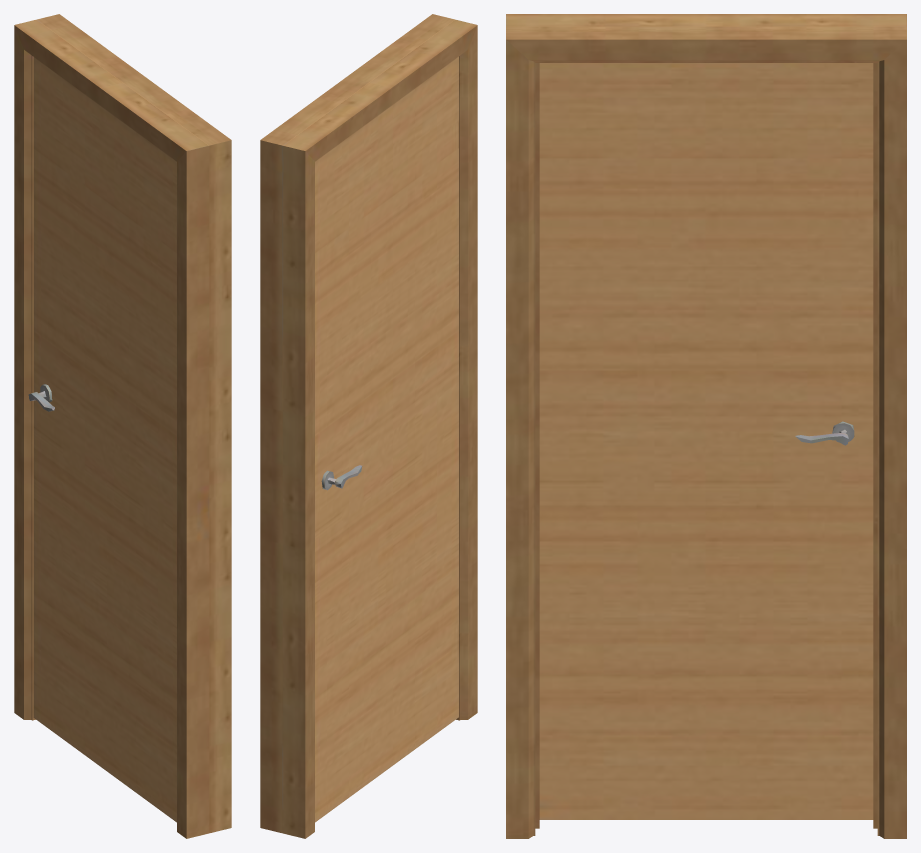
Rendered from Door0020.obj.
3 renders of one model, left to right at view 1: azimuth 30°, elevation 25°; view 2: azimuth 150°, elevation 25°; view 3: azimuth 270°, elevation 25°, orthographic. The views are drawn at different scales.
Size of the model in its own units: 0.182 by 2.12 by 0.964.
1 material, 1 textured.
